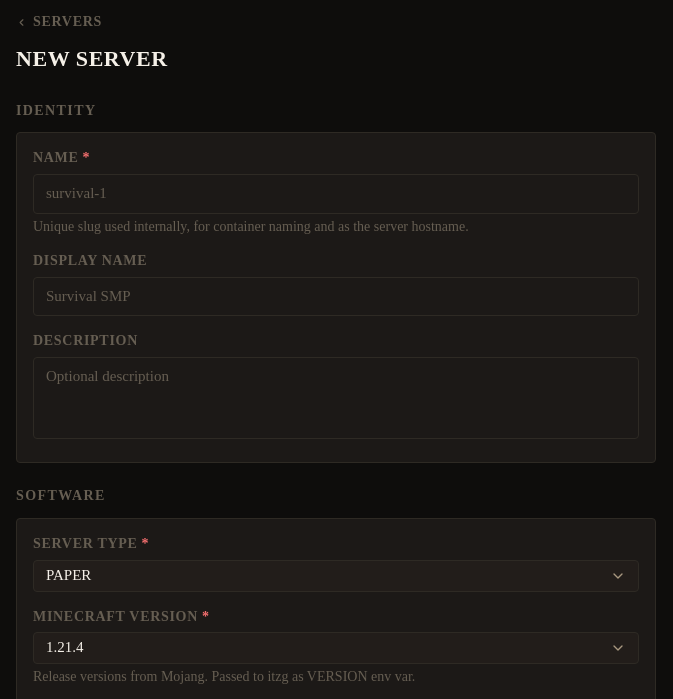
Test case: NewServerPage › renders version dropdown with Mojang versions
The image size is (673, 699).
Click the dropdown named "Minecraft Version": (65,647) x1=33 y1=632 x2=639 y2=664
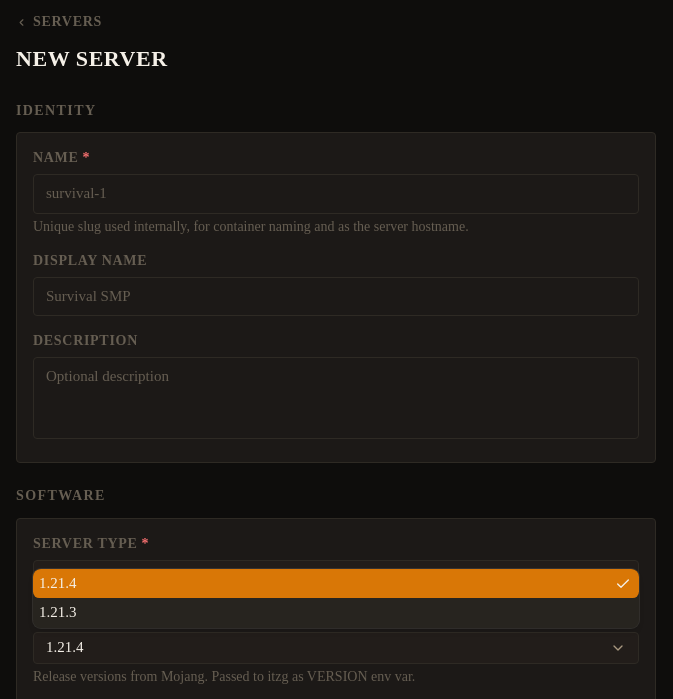
Expected: the option "1.21.4" is shown, x1=33 y1=569 x2=639 y2=598
Expected: the option "1.21.3" is shown, x1=39 y1=604 x2=76 y2=620
